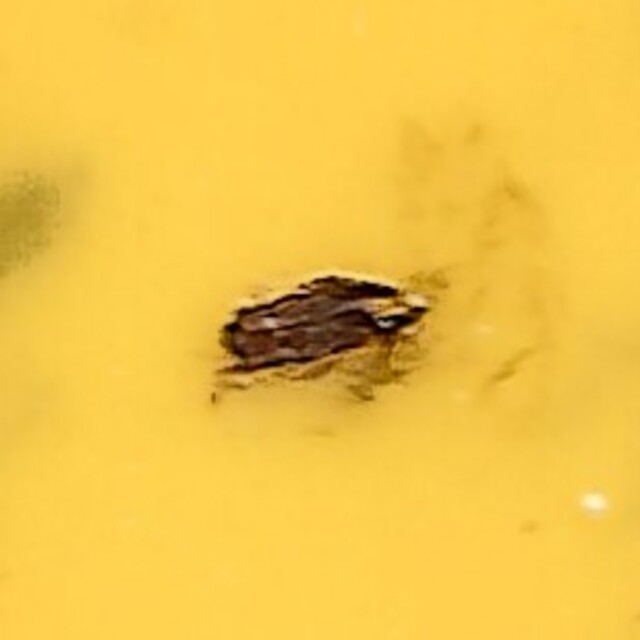Trichoptera: (207, 260, 433, 380)
